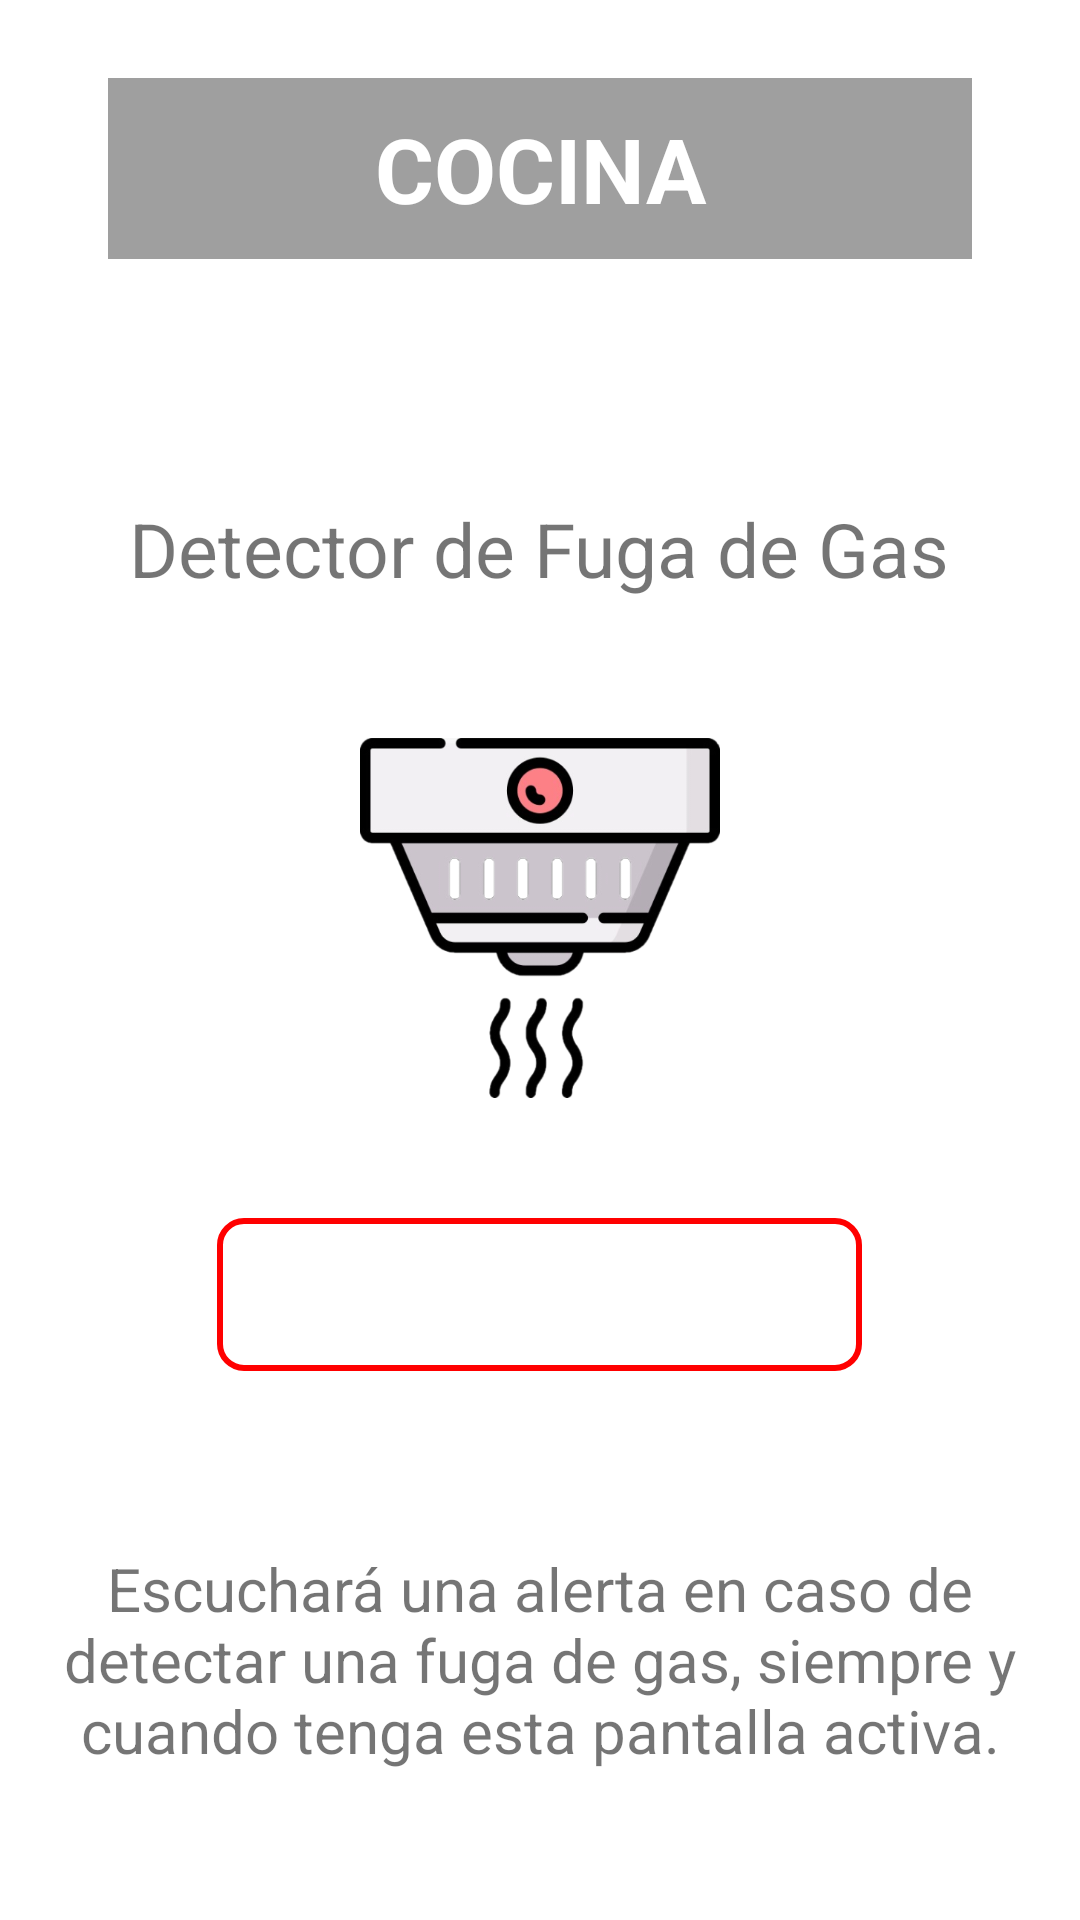

Locate icon controls on the screen. Image size 1080 × 1920, boxes as (x1, y1, x2, y2).
humo: (360, 738, 720, 1098)
